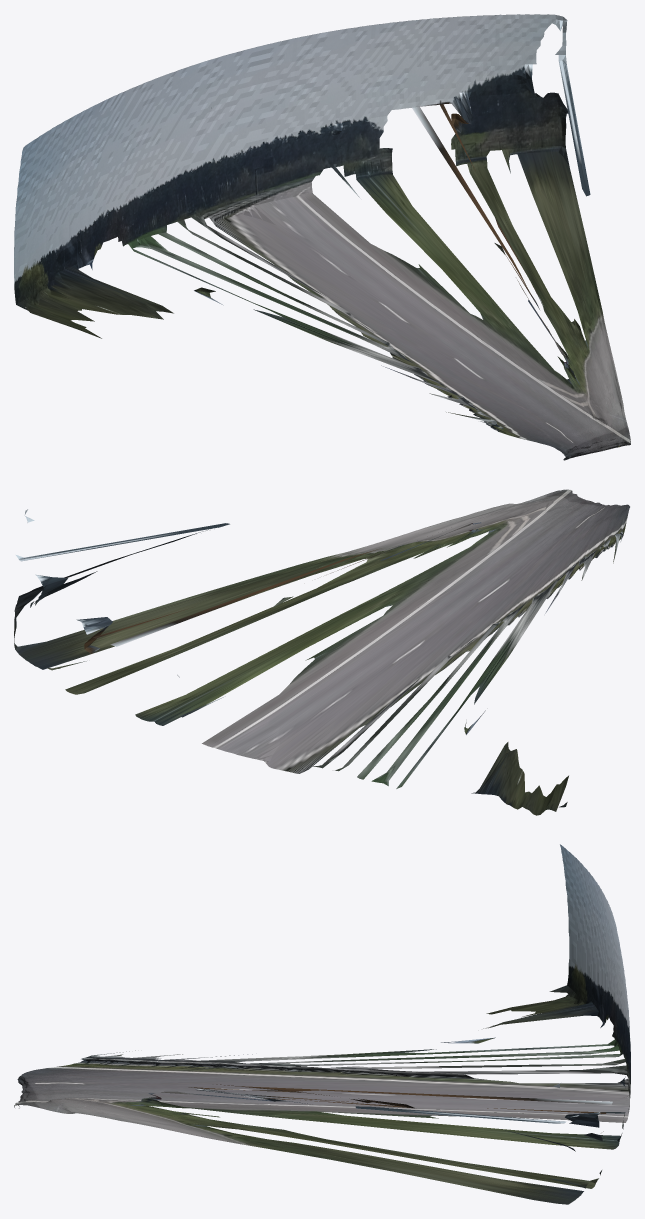
3 views of the same model, one above another, from view 1: azimuth 30°, elevation 25°; view 2: azimuth 150°, elevation 25°; view 3: azimuth 270°, elevation 25° (orthographic). The views are drawn at different scales.
Visible parts, largest first — view 1: defaultobject; view 2: defaultobject; view 3: defaultobject.
Boxes of the visible parts, x1,y1,x2,y2 form: defaultobject: (14,14,630,460); defaultobject: (14,489,629,815); defaultobject: (14,844,630,1204).
Size of the model in its own units: 41.06 by 13.05 by 44.63.
1 material, 1 textured.
